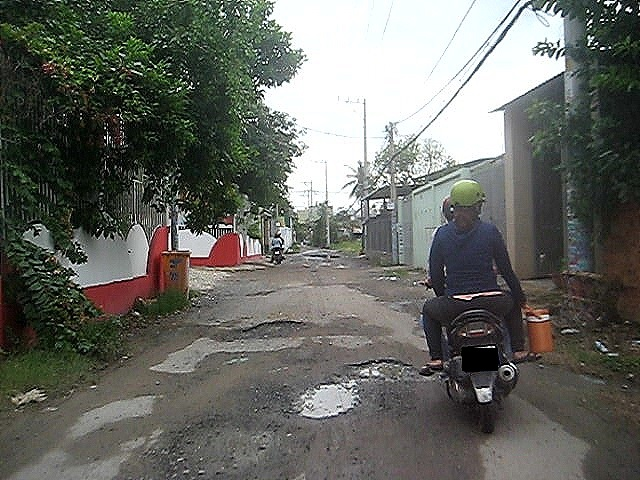hole: (158, 412, 285, 480), (206, 316, 317, 345), (292, 378, 366, 420), (344, 356, 419, 386), (295, 253, 345, 261), (241, 288, 276, 299), (332, 263, 351, 272), (302, 259, 310, 270), (318, 261, 331, 266)
